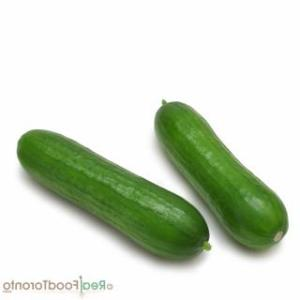cucumber: (15, 126, 210, 258), (153, 98, 289, 249)
